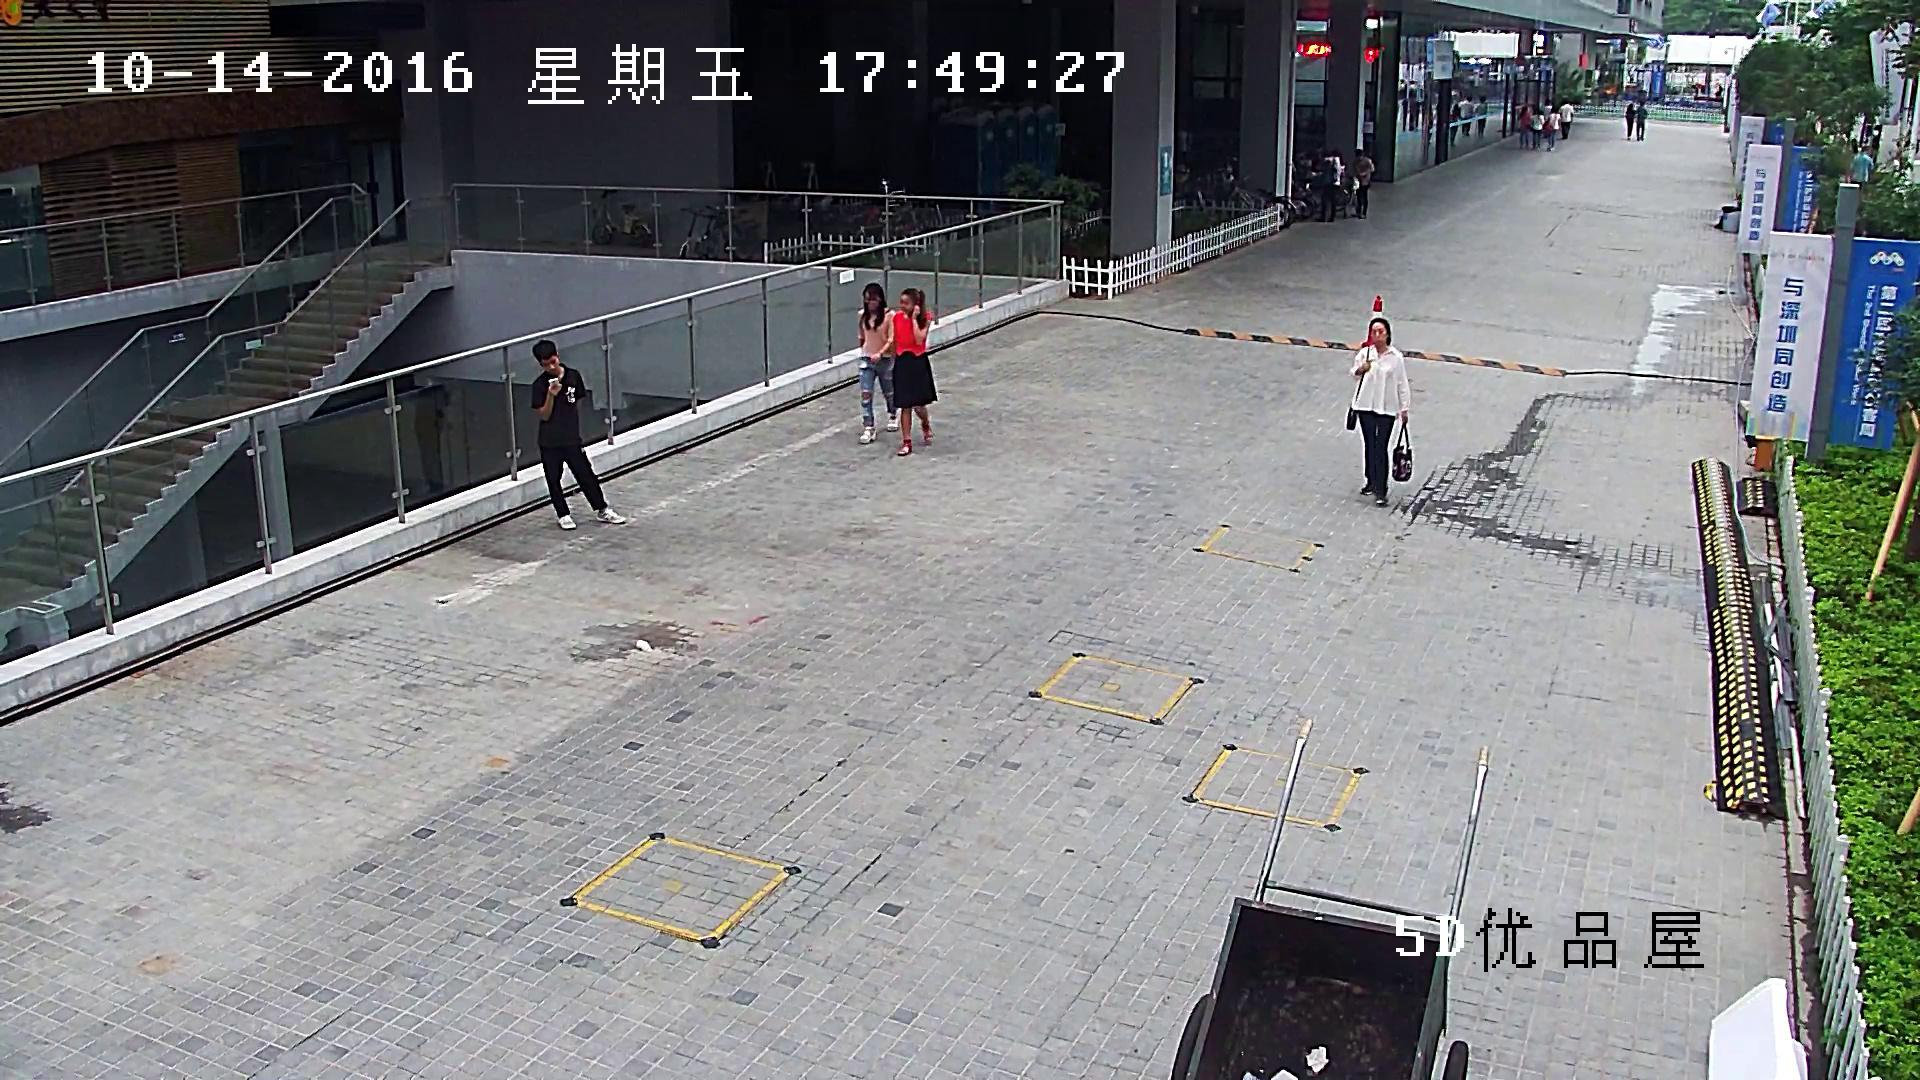person: (532, 338, 624, 529), (1346, 318, 1411, 508), (890, 287, 936, 454), (852, 283, 899, 440), (1316, 148, 1341, 223), (1351, 148, 1375, 218), (1849, 146, 1873, 183), (1558, 97, 1574, 140), (1517, 104, 1532, 149), (1530, 107, 1544, 153), (1460, 95, 1473, 137), (1476, 95, 1487, 139), (1548, 105, 1559, 151), (1635, 100, 1647, 141), (1625, 103, 1634, 141), (1450, 104, 1459, 146), (1544, 99, 1553, 119)
